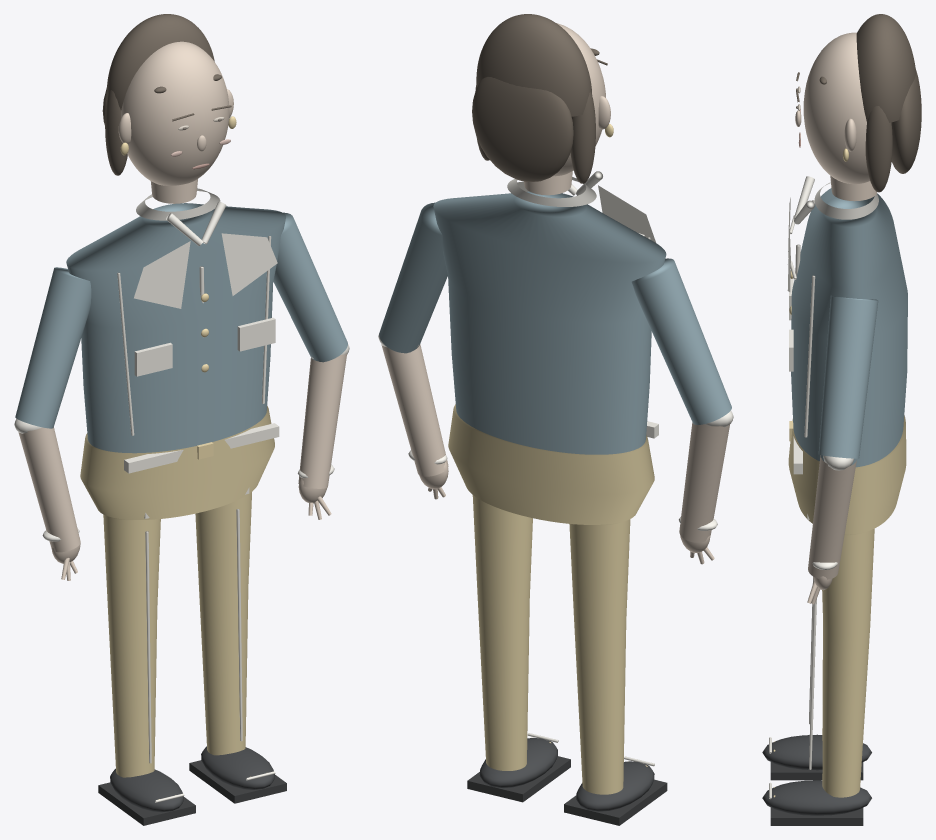
Rendered from default-tailored.glb.
3 renders of one model, left to right at view 1: azimuth 30°, elevation 25°; view 2: azimuth 150°, elevation 25°; view 3: azimuth 270°, elevation 25°, orthographic. The views are drawn at different scales.
Parts seen in each view (by area): view 1: StyleFit Parametric Digital Human; view 2: StyleFit Parametric Digital Human; view 3: StyleFit Parametric Digital Human.
Part boxes in pixels (x1,y1,x2,y2): StyleFit Parametric Digital Human: [14, 14, 349, 825]; StyleFit Parametric Digital Human: [378, 14, 733, 825]; StyleFit Parametric Digital Human: [762, 14, 921, 825].
Bounding box in the file's own units: 1 × 2.17 × 0.4058.
